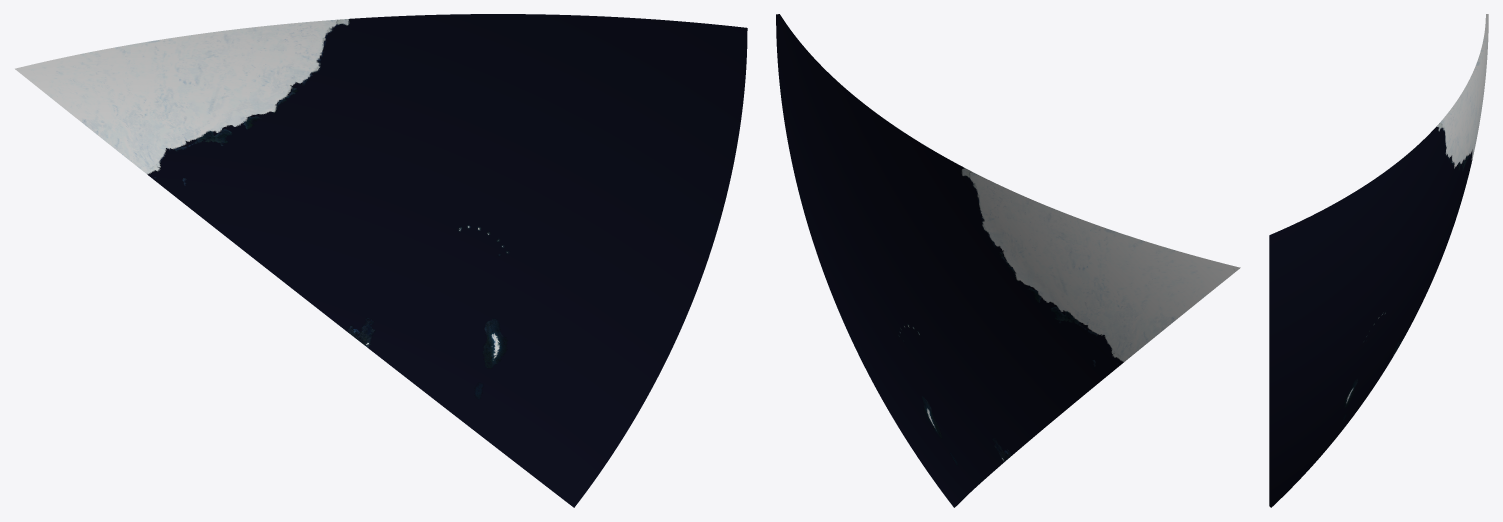
3 renders of one model, left to right at view 1: azimuth 30°, elevation 25°; view 2: azimuth 150°, elevation 25°; view 3: azimuth 270°, elevation 25°, orthographic. The views are drawn at different scales.
Visible parts, largest first — view 1: DefaultName.001, DefaultName.003, DefaultName.007, DefaultName.005; view 2: DefaultName.003, DefaultName.001, DefaultName.005, DefaultName.007; view 3: DefaultName.003, DefaultName.001, DefaultName.005, DefaultName.007.
Boxes of the visible parts, x1,y1,x2,y2 form: DefaultName.001: (278,152,702,507); DefaultName.003: (348,14,747,275); DefaultName.007: (16,69,347,277); DefaultName.005: (15,17,372,152); DefaultName.003: (776,14,971,299); DefaultName.001: (822,269,1043,507); DefaultName.005: (947,160,1240,299); DefaultName.007: (972,269,1238,428); DefaultName.003: (1269,134,1431,401); DefaultName.001: (1269,225,1431,507); DefaultName.005: (1430,14,1488,223); DefaultName.007: (1432,29,1488,281).
Bounding box in the file's own units: 45176 × 31944 × 18870.
4 materials, 4 textured.
